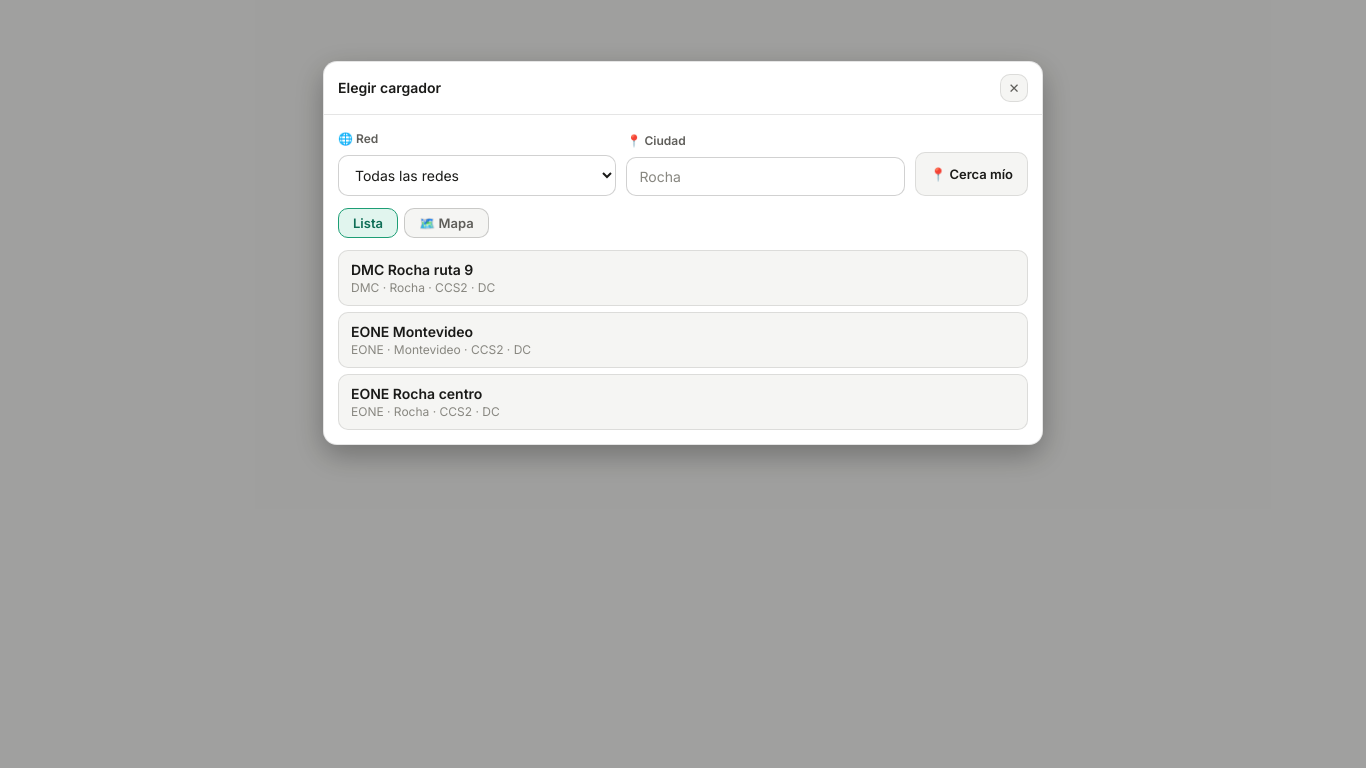
Test: StationPickerModal › "Cerca mío" › shows an inline message and leaves the list as-is on failure
Click the button "📍 Cerca mío". click: click(971, 174)
box: [915,152,1028,196]
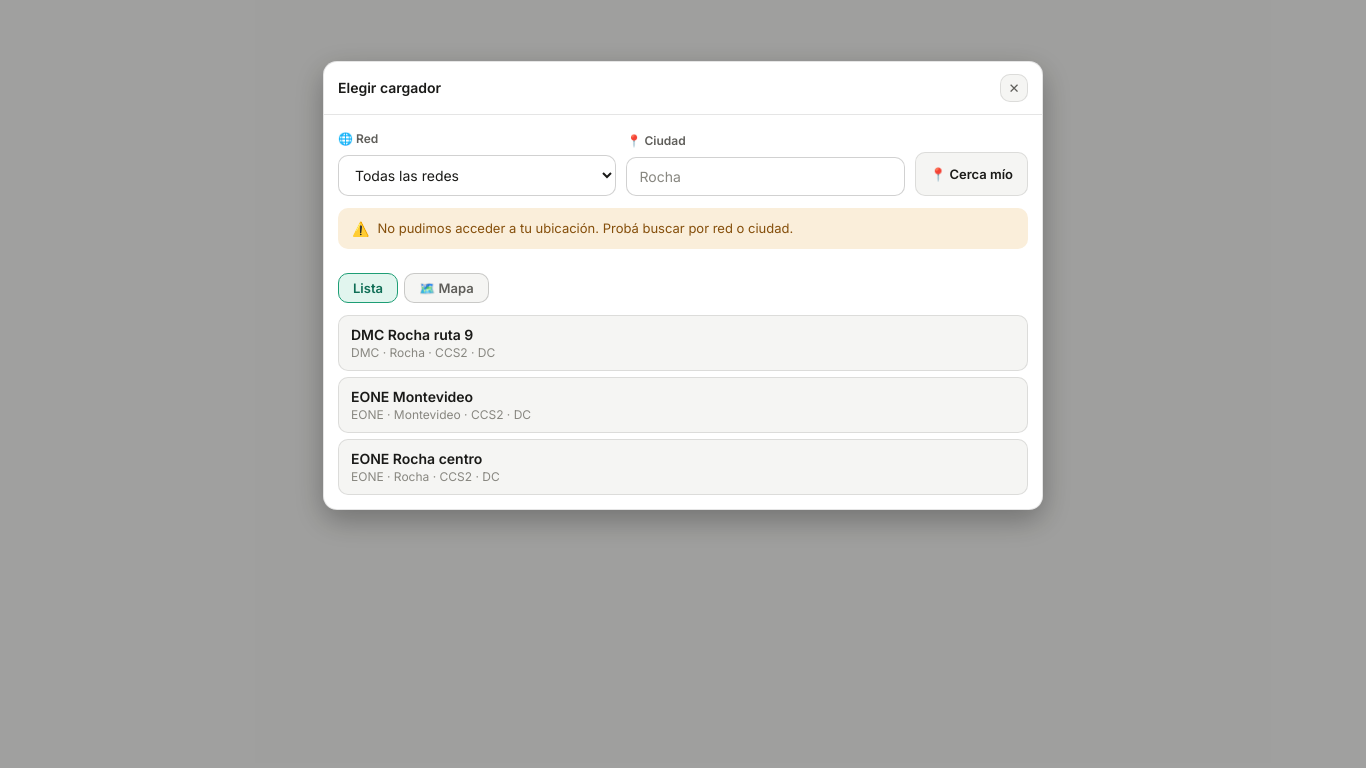
Expected: the text "EONE Rocha centro" is shown, [351,450,482,467]
Expected: the text "No pudimos acceder a tu ubicación. Probá buscar por red o ciudad." is shown, [378,218,793,238]
